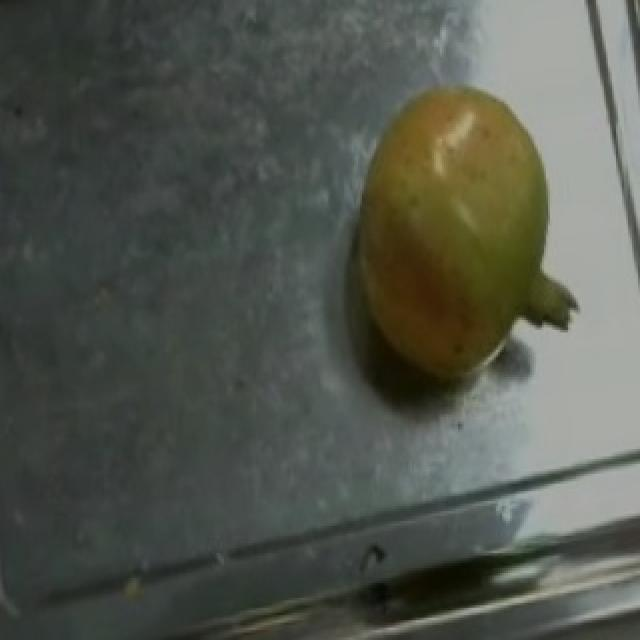fruit: (340, 62, 562, 263)
